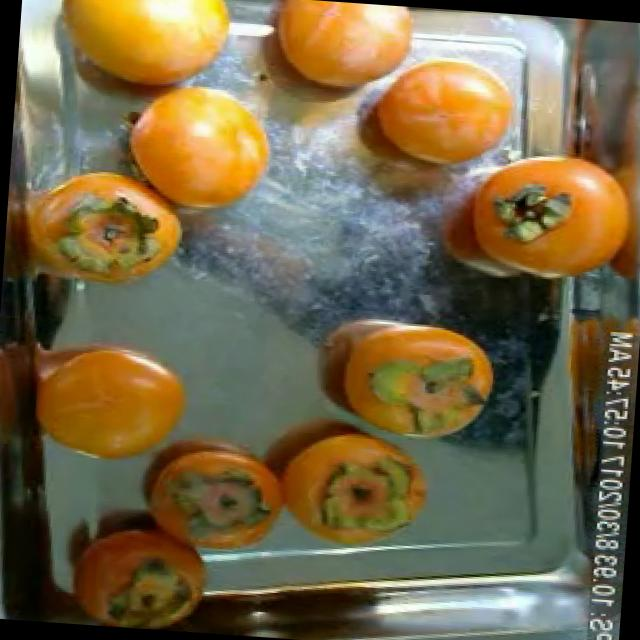Fruit: (1, 314, 212, 482), (100, 63, 302, 234), (1, 150, 205, 307), (343, 34, 548, 184), (302, 306, 514, 448), (43, 492, 230, 634), (116, 402, 299, 544)
